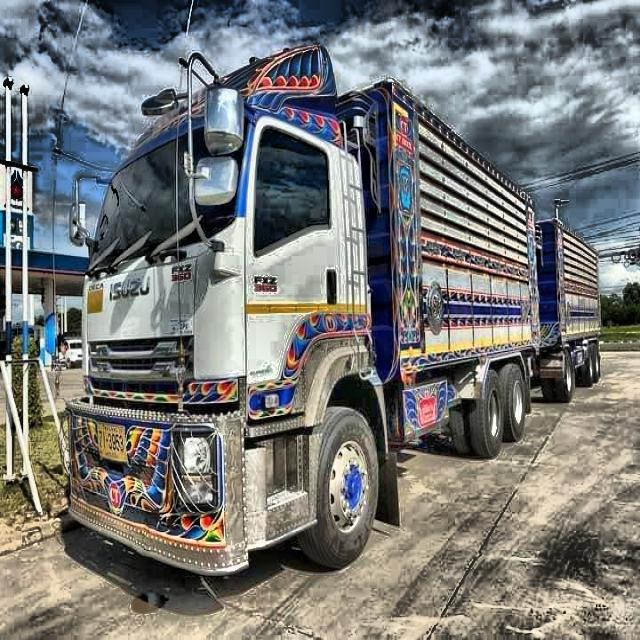trailer: (68, 46, 602, 573)
